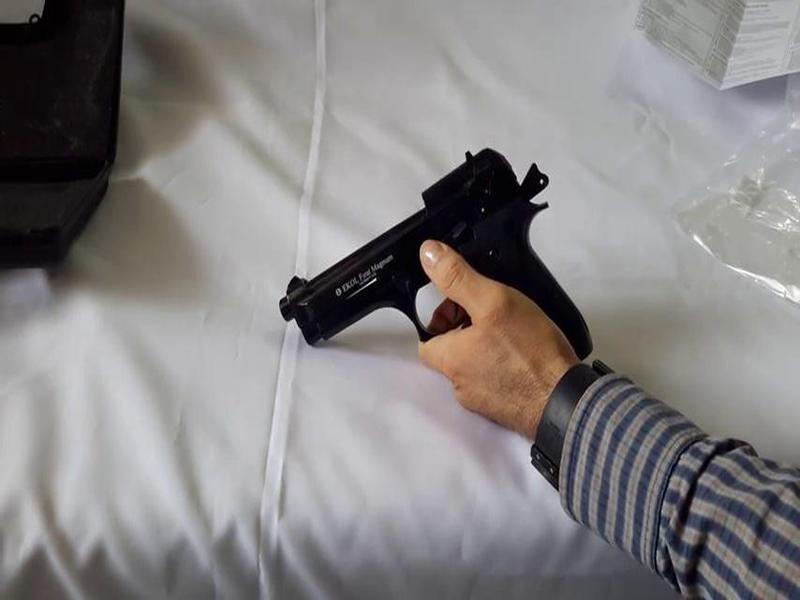Pistola: (249, 153, 646, 440)
